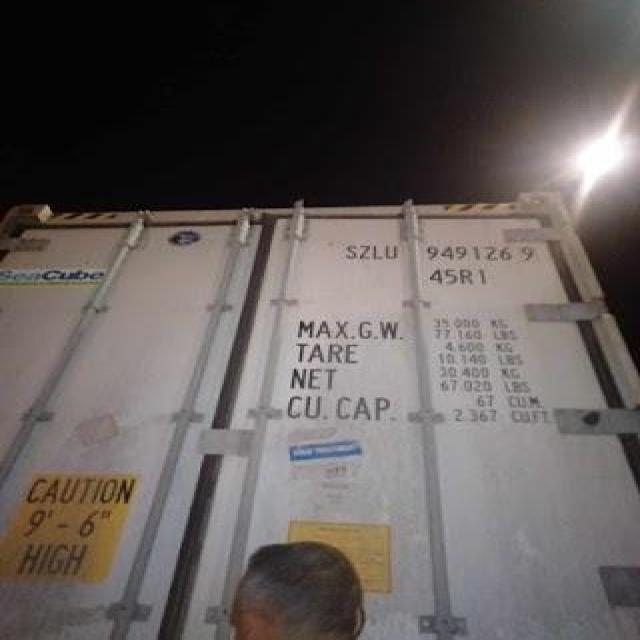ISO: (430, 264, 490, 288)
container_number: (357, 238, 537, 263)
